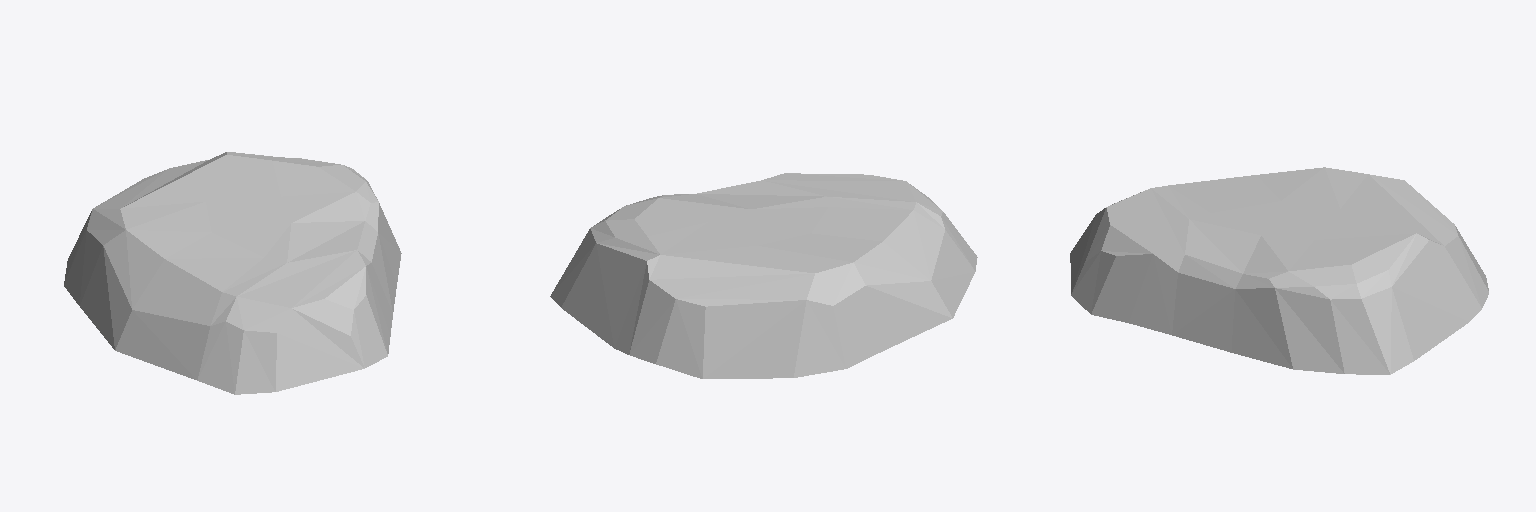
File: Pebble_Round_4.obj
The picture shows the model from 3 angles: view 1: azimuth 30°, elevation 25°; view 2: azimuth 150°, elevation 25°; view 3: azimuth 270°, elevation 25°; orthographic projection.
Parts seen in each view (by area): view 1: Pebble_Round_4; view 2: Pebble_Round_4; view 3: Pebble_Round_4.
Boxes of the visible parts, <box> form: Pebble_Round_4: <box>64,152,401,394</box>; Pebble_Round_4: <box>550,173,977,378</box>; Pebble_Round_4: <box>1070,167,1488,374</box>.
Size of the model in its own units: 0.4063 by 0.0994 by 0.4524.